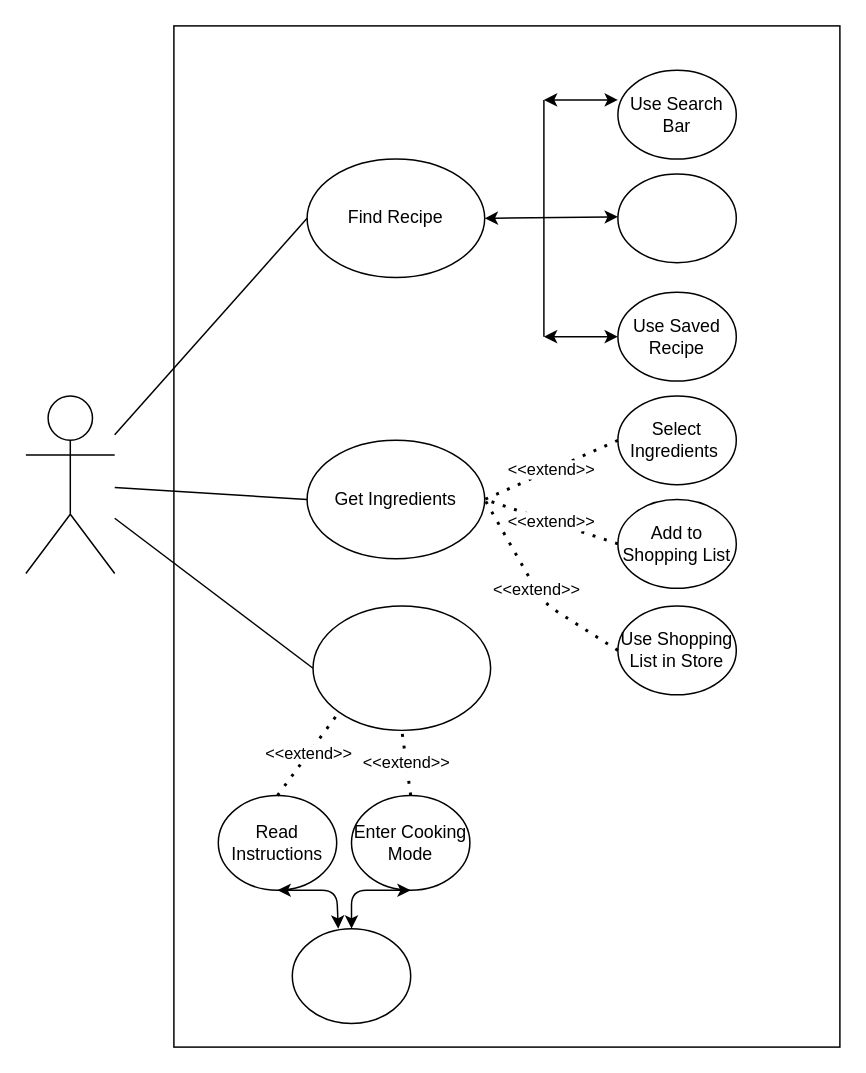
Image size: 866x1073. Some labels were removed from this diagram. The centre of each missing label's shape, as x and y in pixels:
"Follow Instructions" goes at (x=351, y=975).
"Follow Recipe" goes at (x=401, y=667).
"Navigate Recipe List" goes at (x=676, y=217).
"User" goes at (x=69, y=484).
